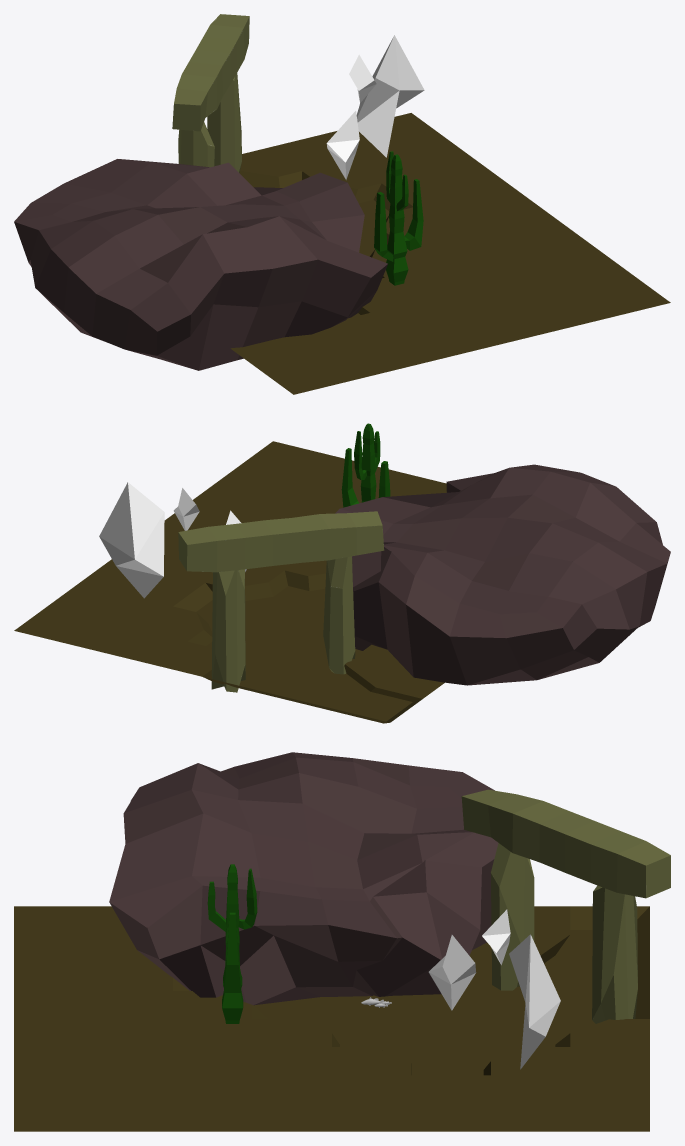
The model's file is testScene.gltf.
3 views of the same model, one above another, from view 1: azimuth 30°, elevation 25°; view 2: azimuth 150°, elevation 25°; view 3: azimuth 270°, elevation 25° (orthographic). The views are drawn at different scales.
Visible parts, largest first — view 1: Sphere, Plane, Cube.003, Cube.001, Cube.002, Cylinder; view 2: Sphere, Plane, Cube.001, Cylinder, Cube.003, Cube.002; view 3: Plane, Sphere, Cube.001, Cylinder, Cube.003, Cube.002.
Part boxes in pixels (x1,y1,x2,y2): Sphere: (14, 159, 387, 370); Plane: (230, 113, 670, 394); Cube.003: (326, 35, 424, 179); Cube.001: (172, 14, 249, 131); Cube.002: (374, 151, 423, 285); Cylinder: (178, 73, 241, 172); Sphere: (335, 464, 670, 685); Plane: (14, 441, 446, 723); Cube.001: (178, 511, 384, 572); Cylinder: (211, 556, 355, 692); Cube.003: (99, 482, 246, 598); Cube.002: (341, 423, 390, 507); Plane: (14, 906, 649, 1131); Sphere: (109, 752, 498, 1005); Cube.001: (461, 789, 670, 898); Cylinder: (490, 843, 637, 1023); Cube.003: (428, 909, 560, 1069); Cube.002: (207, 864, 257, 1023).
Bounding box in the file's own units: 118 × 41.44 × 110.
